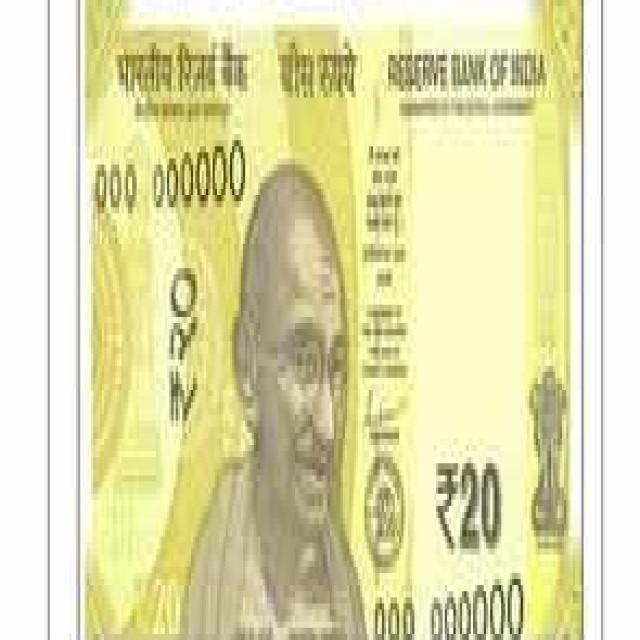20rs: (76, 0, 584, 640)
